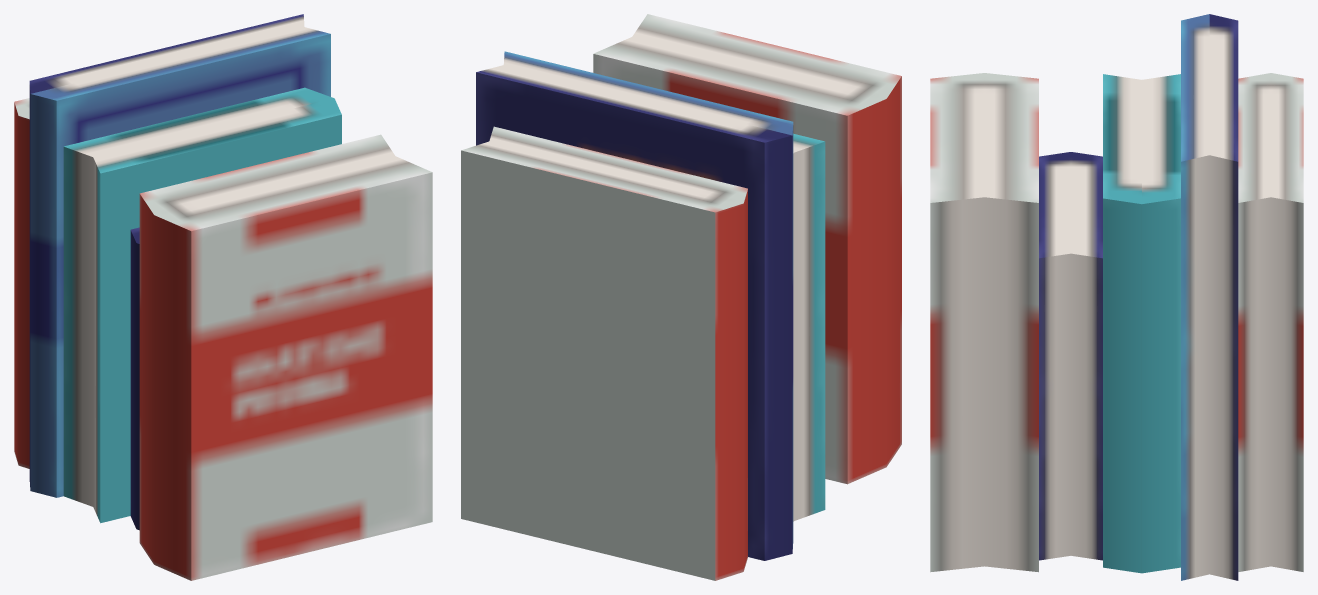
The model's file is TNP0110015.FBX.
3 views of the same model, side by side, from view 1: azimuth 30°, elevation 25°; view 2: azimuth 150°, elevation 25°; view 3: azimuth 270°, elevation 25° (orthographic). The views are drawn at different scales.
Parts seen in each view (by area): view 1: smTNP0110015; view 2: smTNP0110015; view 3: smTNP0110015.
Boxes of the visible parts, box(x1,y1,x2,y2) form: smTNP0110015: box(14, 14, 432, 580); smTNP0110015: box(461, 14, 901, 580); smTNP0110015: box(930, 14, 1303, 580).
Bounding box in the file's own units: 23.88 × 31.58 × 25.51.
Materials: 1 (1 with a texture image).
